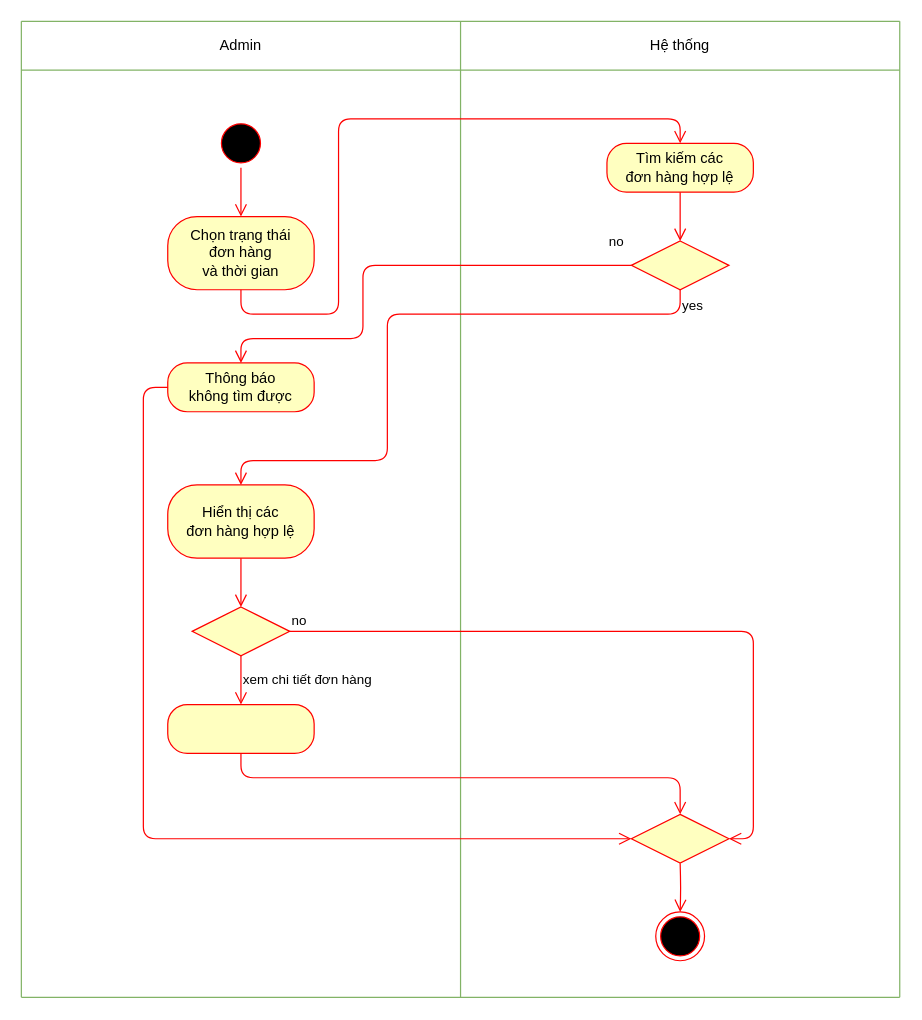
Image size: 922x1020. Some labels were removed from this diagram. Here are the shapes that lost their labels. From the top down, the centre of each, then its label:
At pixel 679 265: "Condition".
At pixel 240 728: "Hiển thị chi tiết đơn hàng".
